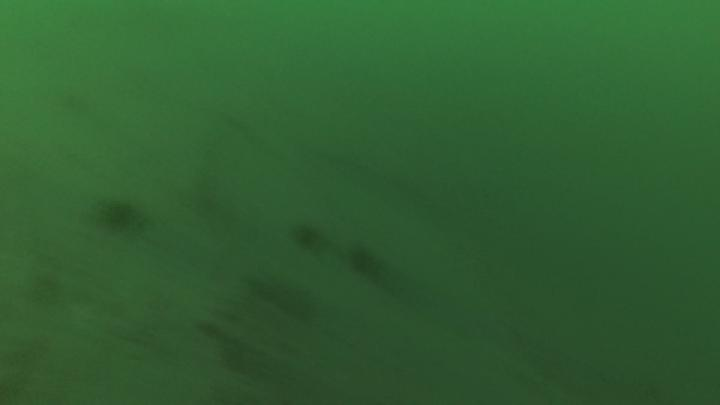echinus: (98, 196, 143, 239), (350, 244, 378, 280), (293, 223, 322, 253)
